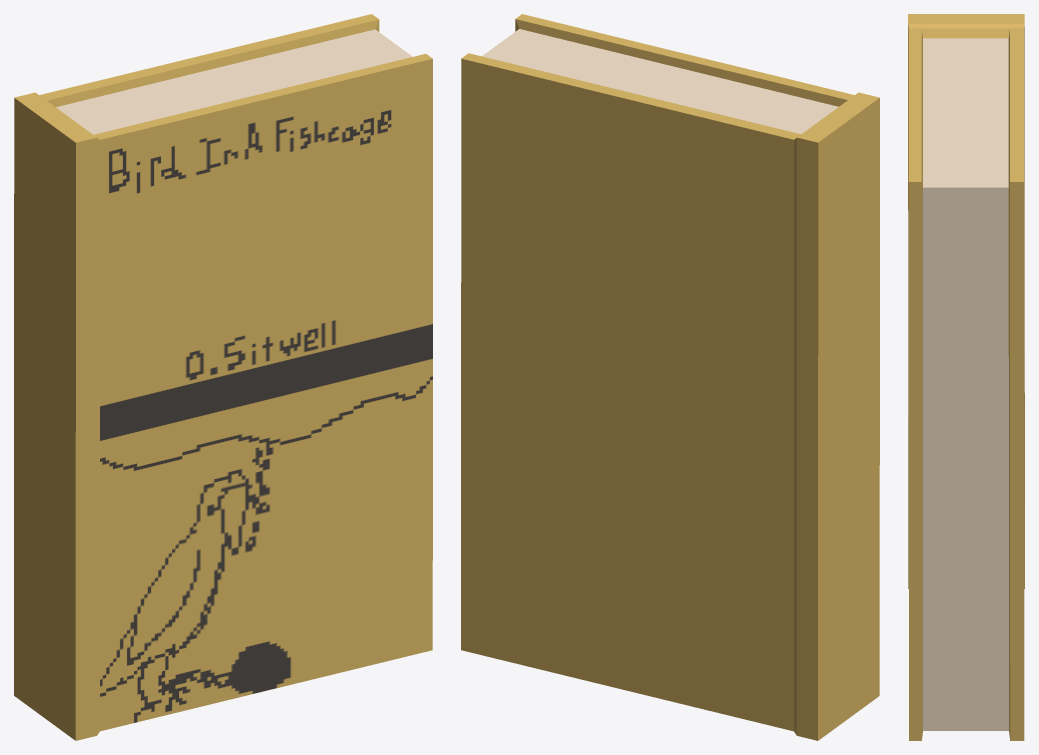
The model's file is birdfishcage.fbx.
3 renders of one model, left to right at view 1: azimuth 30°, elevation 25°; view 2: azimuth 150°, elevation 25°; view 3: azimuth 270°, elevation 25°, orthographic. The views are drawn at different scales.
Visible parts, largest first — view 1: Cube.014; view 2: Cube.014; view 3: Cube.014.
Part boxes in pixels (bbox=[...]): Cube.014: bbox=[14, 14, 432, 740]; Cube.014: bbox=[461, 14, 879, 740]; Cube.014: bbox=[908, 14, 1024, 740].
Size of the model in its own units: 22.87 by 36.59 by 6.85.
